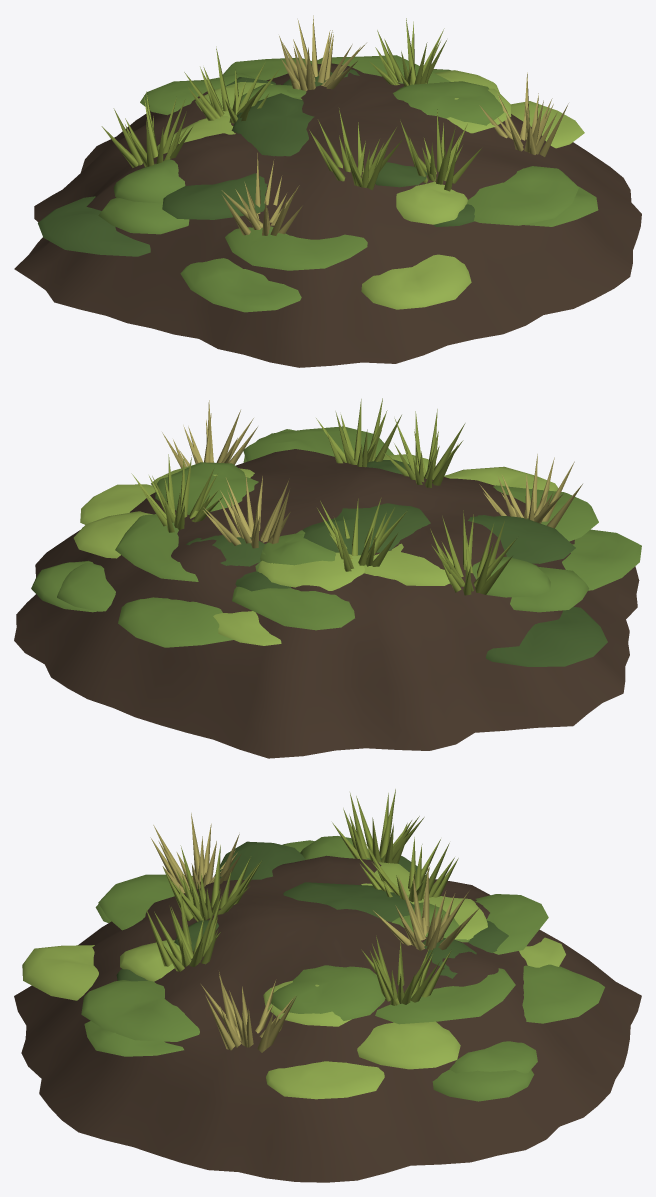
The model's file is detail_peat_mound.glb.
3 renders of one model, top to bottom at view 1: azimuth 30°, elevation 25°; view 2: azimuth 150°, elevation 25°; view 3: azimuth 270°, elevation 25°, orthographic. The views are drawn at different scales.
Visible parts, largest first — view 1: plaster; view 2: plaster; view 3: plaster.
Boxes of the visible parts, <box> form: plaster: <box>14,15,641,367</box>; plaster: <box>14,398,641,758</box>; plaster: <box>14,789,641,1182</box>.
Size of the model in its own units: 1.4 by 0.4 by 1.3.
